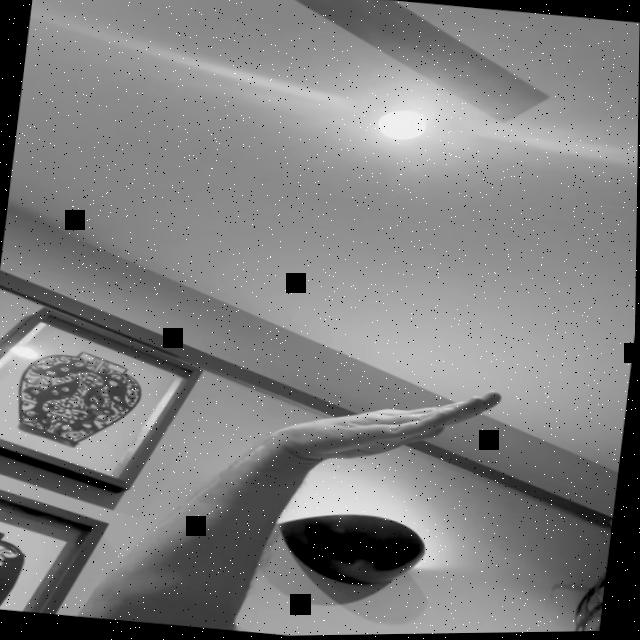Paper: (275, 369, 504, 478)
